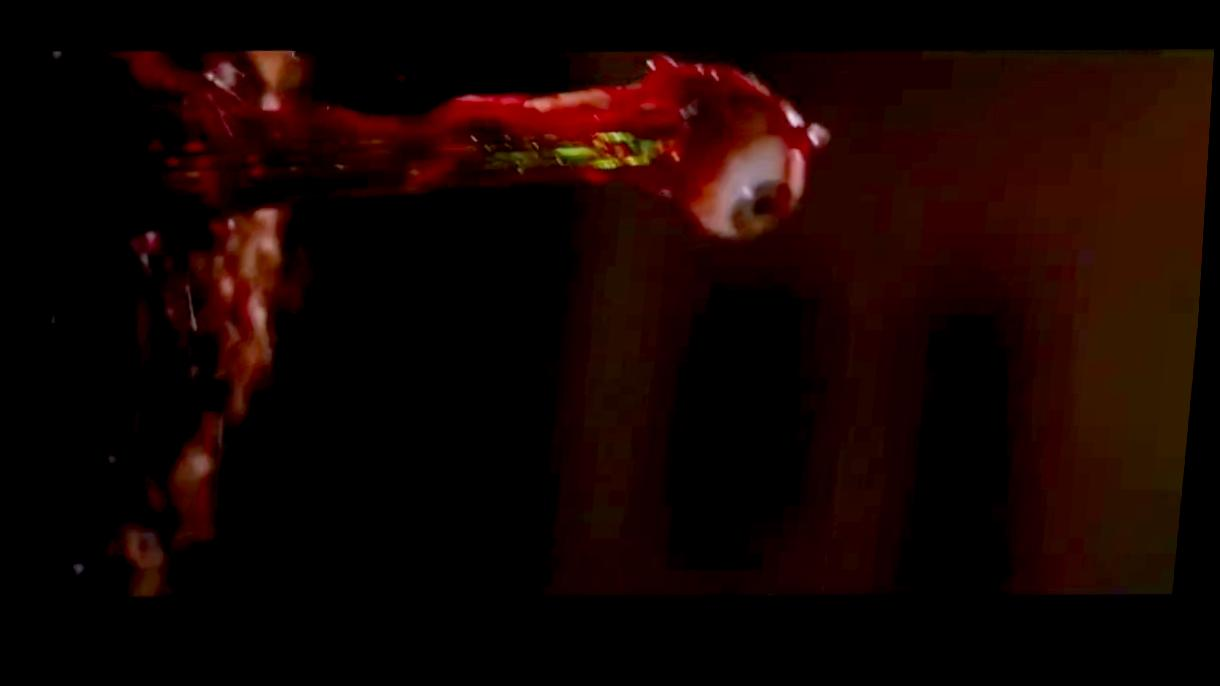Fire: (89, 54, 832, 601)
